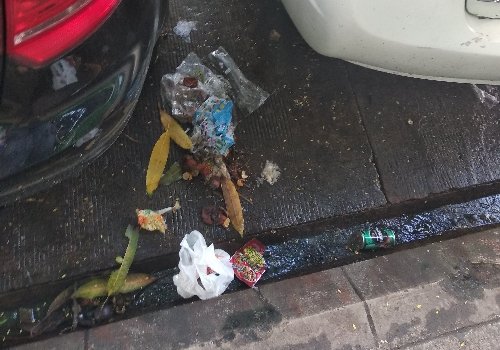trash: (125, 35, 274, 303), (349, 221, 405, 256)
